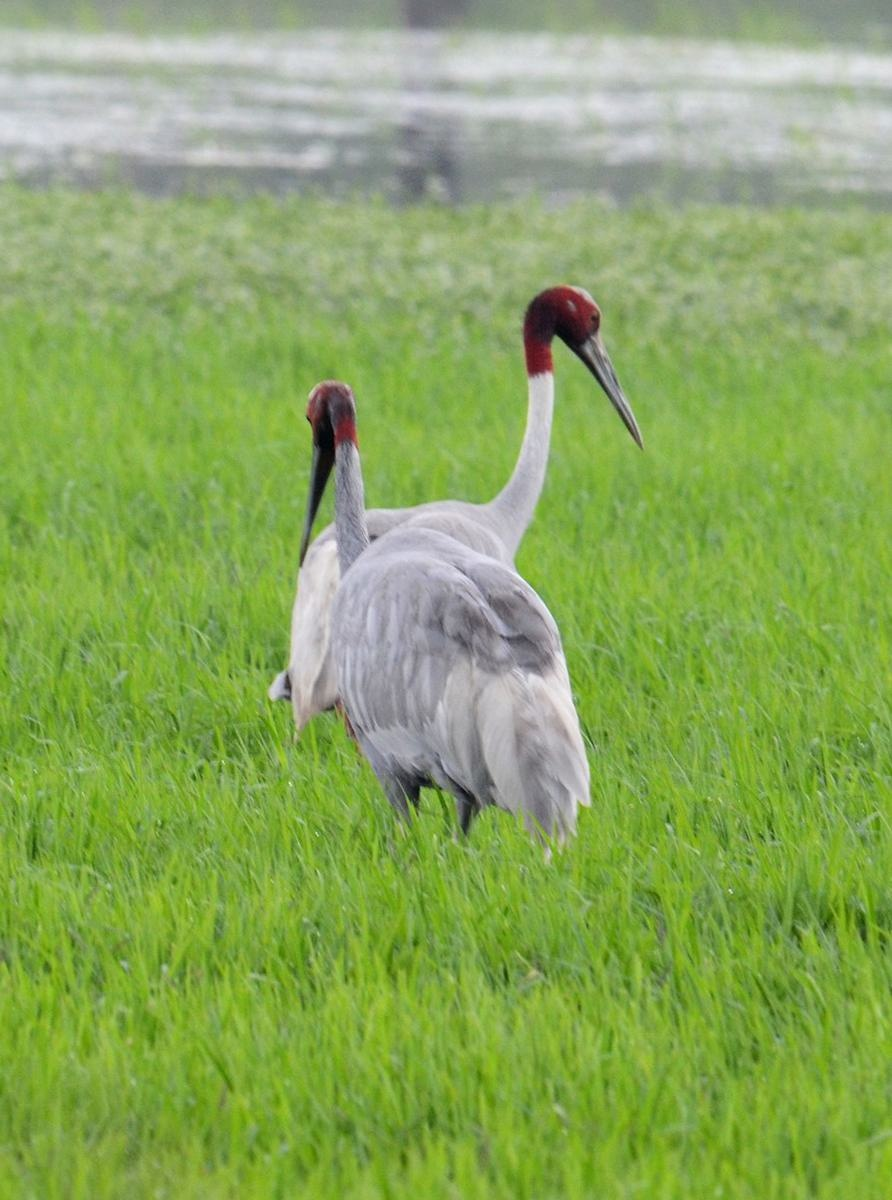crane: (275, 370, 589, 905), (282, 291, 649, 686)
